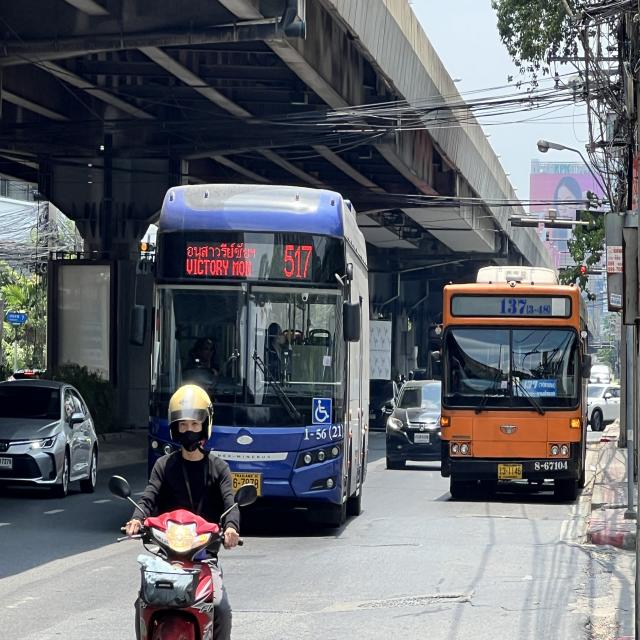BMTA-bus: (145, 179, 374, 531), (440, 262, 593, 504)
Bus-Line-Number: (280, 239, 316, 280), (498, 297, 554, 318)
Destination-Sign-Normal: (183, 238, 260, 281), (515, 377, 558, 399)
